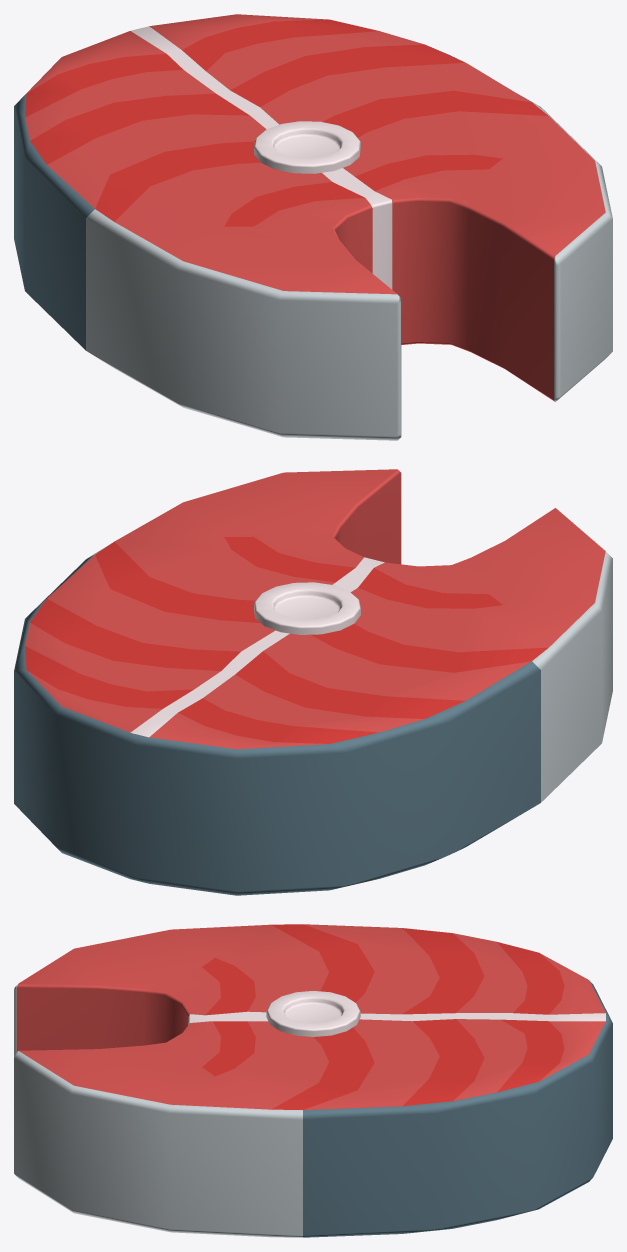
Rendered from Tuna_1_Steak_2.fbx.
3 renders of one model, top to bottom at view 1: azimuth 30°, elevation 25°; view 2: azimuth 150°, elevation 25°; view 3: azimuth 270°, elevation 25°, orthographic. The views are drawn at different scales.
Parts seen in each view (by area): view 1: Tuna_1_Steak_2; view 2: Tuna_1_Steak_2; view 3: Tuna_1_Steak_2.
Boxes of the visible parts, x1,y1,x2,y2 form: Tuna_1_Steak_2: (14, 14, 612, 440); Tuna_1_Steak_2: (14, 469, 612, 895); Tuna_1_Steak_2: (14, 924, 612, 1237).
Size of the model in its own units: 24.63 by 8.44 by 32.2.
